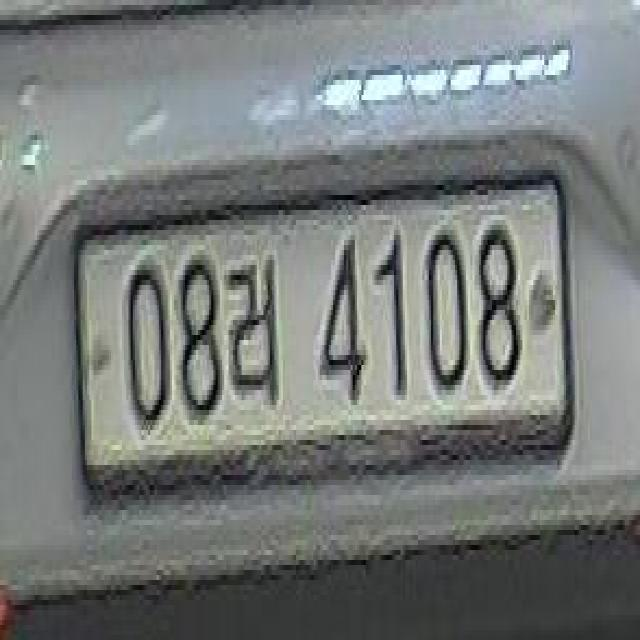illegal_plate: (76, 162, 573, 502)
